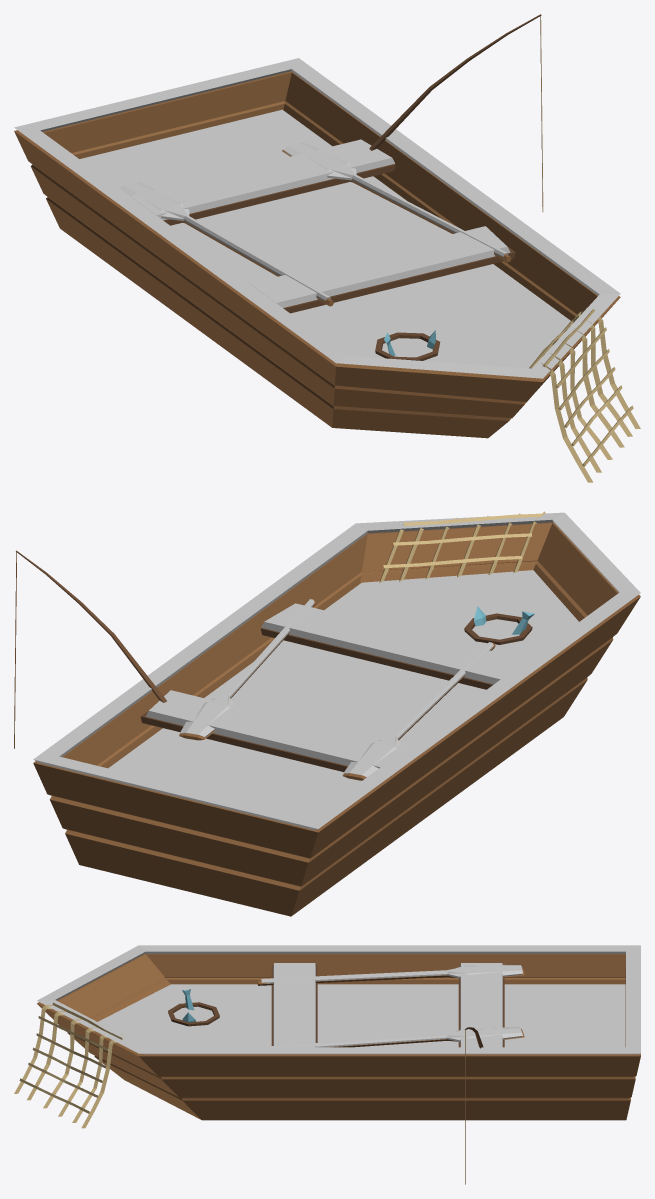
The model's file is Boat_snow_mat.fbx.
3 renders of one model, top to bottom at view 1: azimuth 30°, elevation 25°; view 2: azimuth 150°, elevation 25°; view 3: azimuth 270°, elevation 25°, orthographic. The views are drawn at different scales.
Parts seen in each view (by area): view 1: Boat_snow_mat; view 2: Boat_snow_mat; view 3: Boat_snow_mat.
Part boxes in pixels (box(x1,y1,x2,y2)): Boat_snow_mat: box(14, 14, 640, 482); Boat_snow_mat: box(14, 511, 640, 916); Boat_snow_mat: box(14, 945, 640, 1184).
Size of the model in its own units: 105 by 47.62 by 175.
